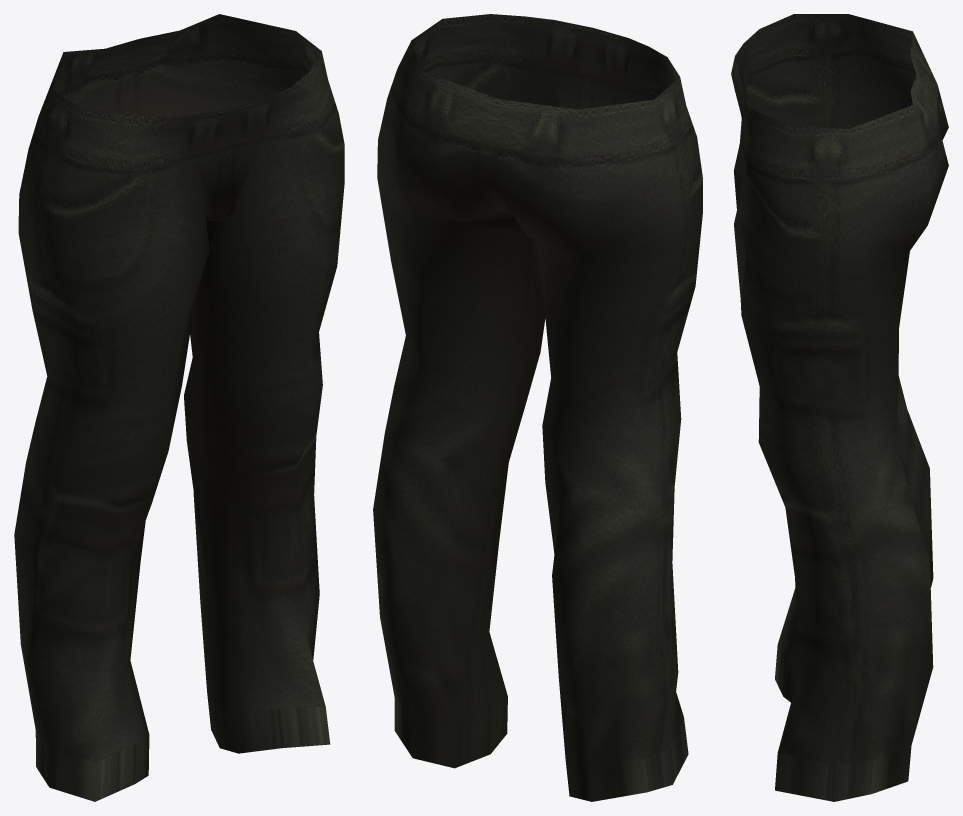
File: bottom_cargo.gltf
3 views of the same model, side by side, from view 1: azimuth 30°, elevation 25°; view 2: azimuth 150°, elevation 25°; view 3: azimuth 270°, elevation 25° (orthographic). The views are drawn at different scales.
Parts seen in each view (by area): view 1: bottom_cargo; view 2: bottom_cargo; view 3: bottom_cargo.
Boxes of the visible parts, <box> form: bottom_cargo: <box>14,14,344,801</box>; bottom_cargo: <box>373,14,702,801</box>; bottom_cargo: <box>731,14,948,801</box>.
Bounding box in the file's own units: 0.3903 × 0.8737 × 0.2538.
Materials: 1 (1 with a texture image).
